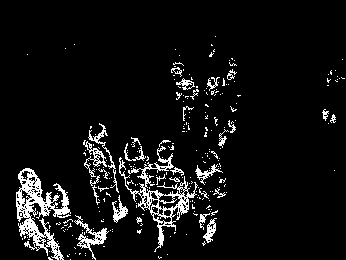person: (42, 179, 107, 260), (83, 120, 129, 226), (144, 138, 186, 250), (15, 167, 60, 259), (189, 147, 229, 244), (118, 136, 154, 235)
